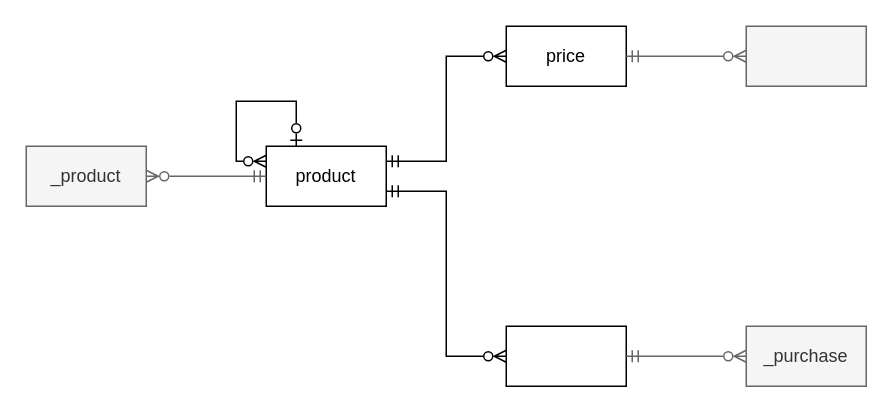
Image size: 893x413. Some labels were removed from this diagram. The centre of each missing label's shape, as x and y in pixels:
"_price" belongs at pixel 805 55.
"purchase" belongs at pixel 565 355.
